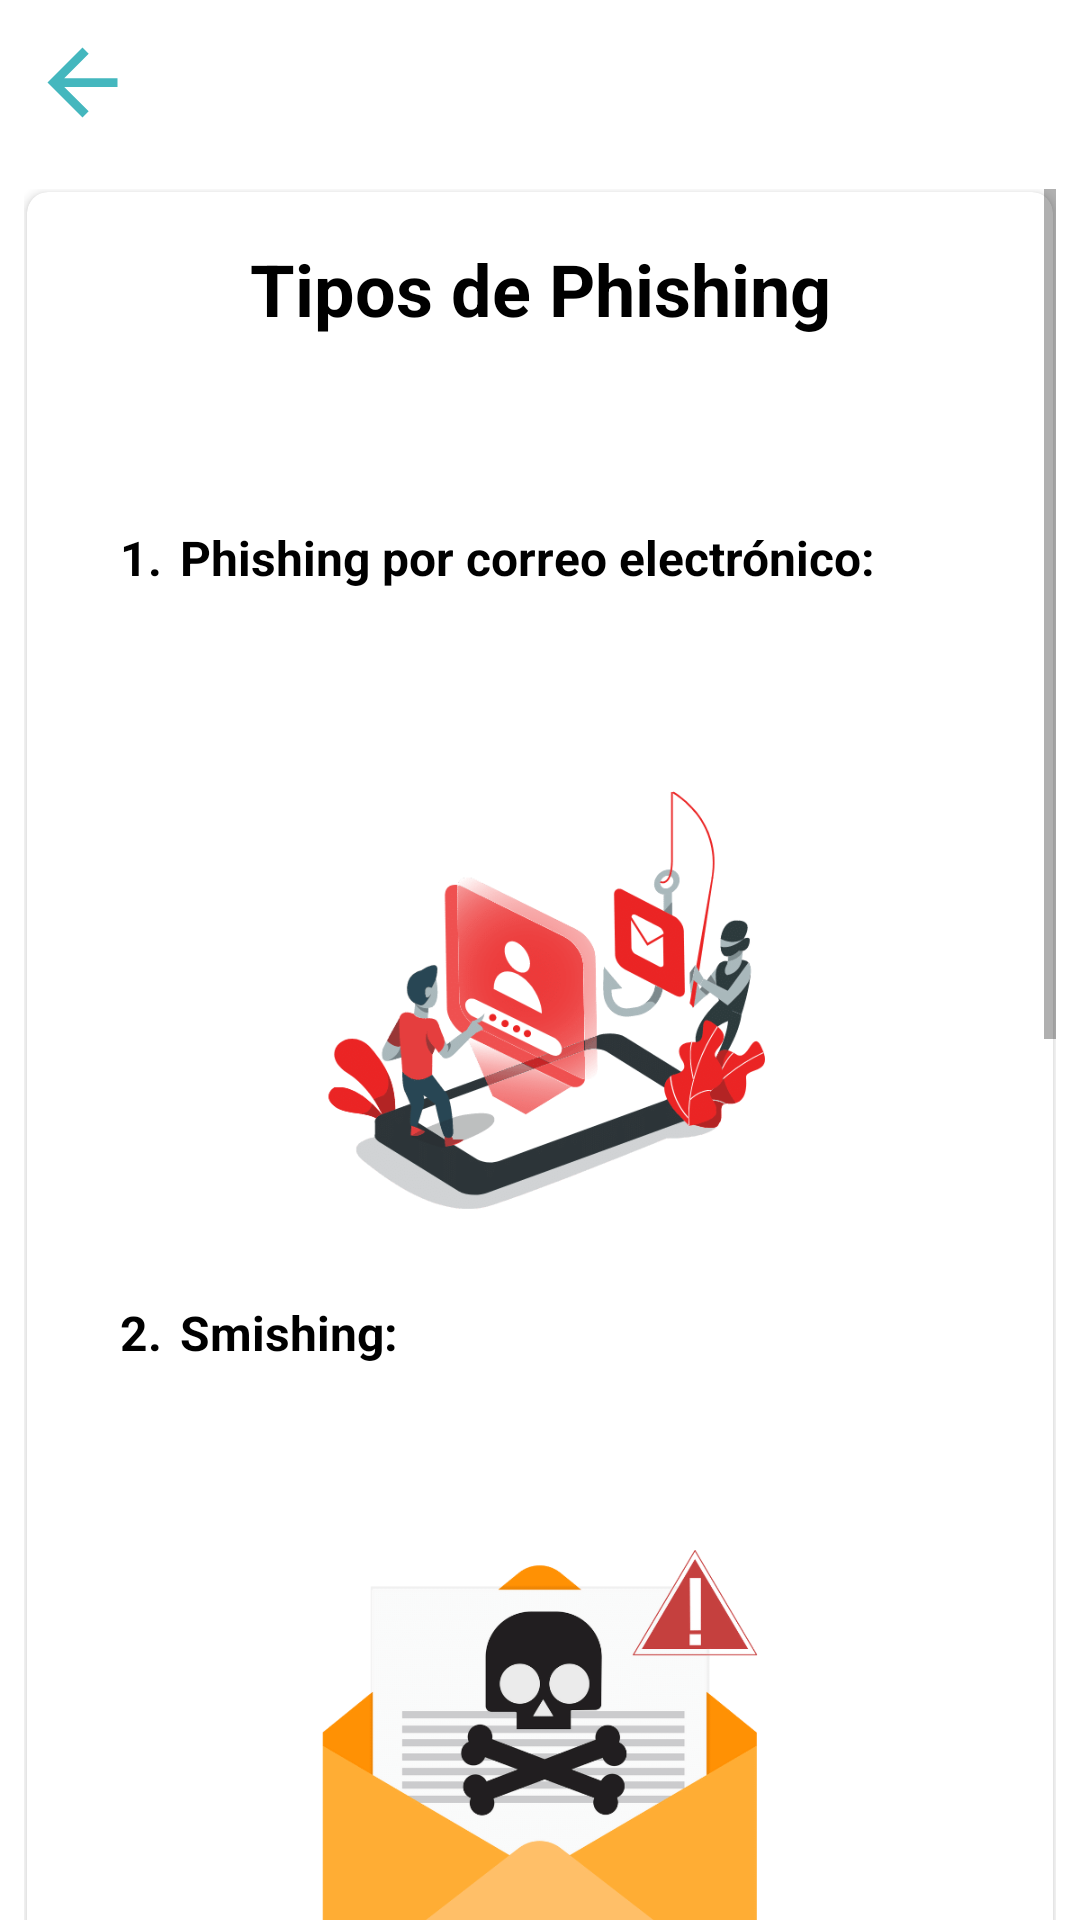

Locate icon controls on the screen. Image size 1080 x 1920, boxes as (x1, y1, x2, y2).
back arrow: (47, 47, 118, 118)
